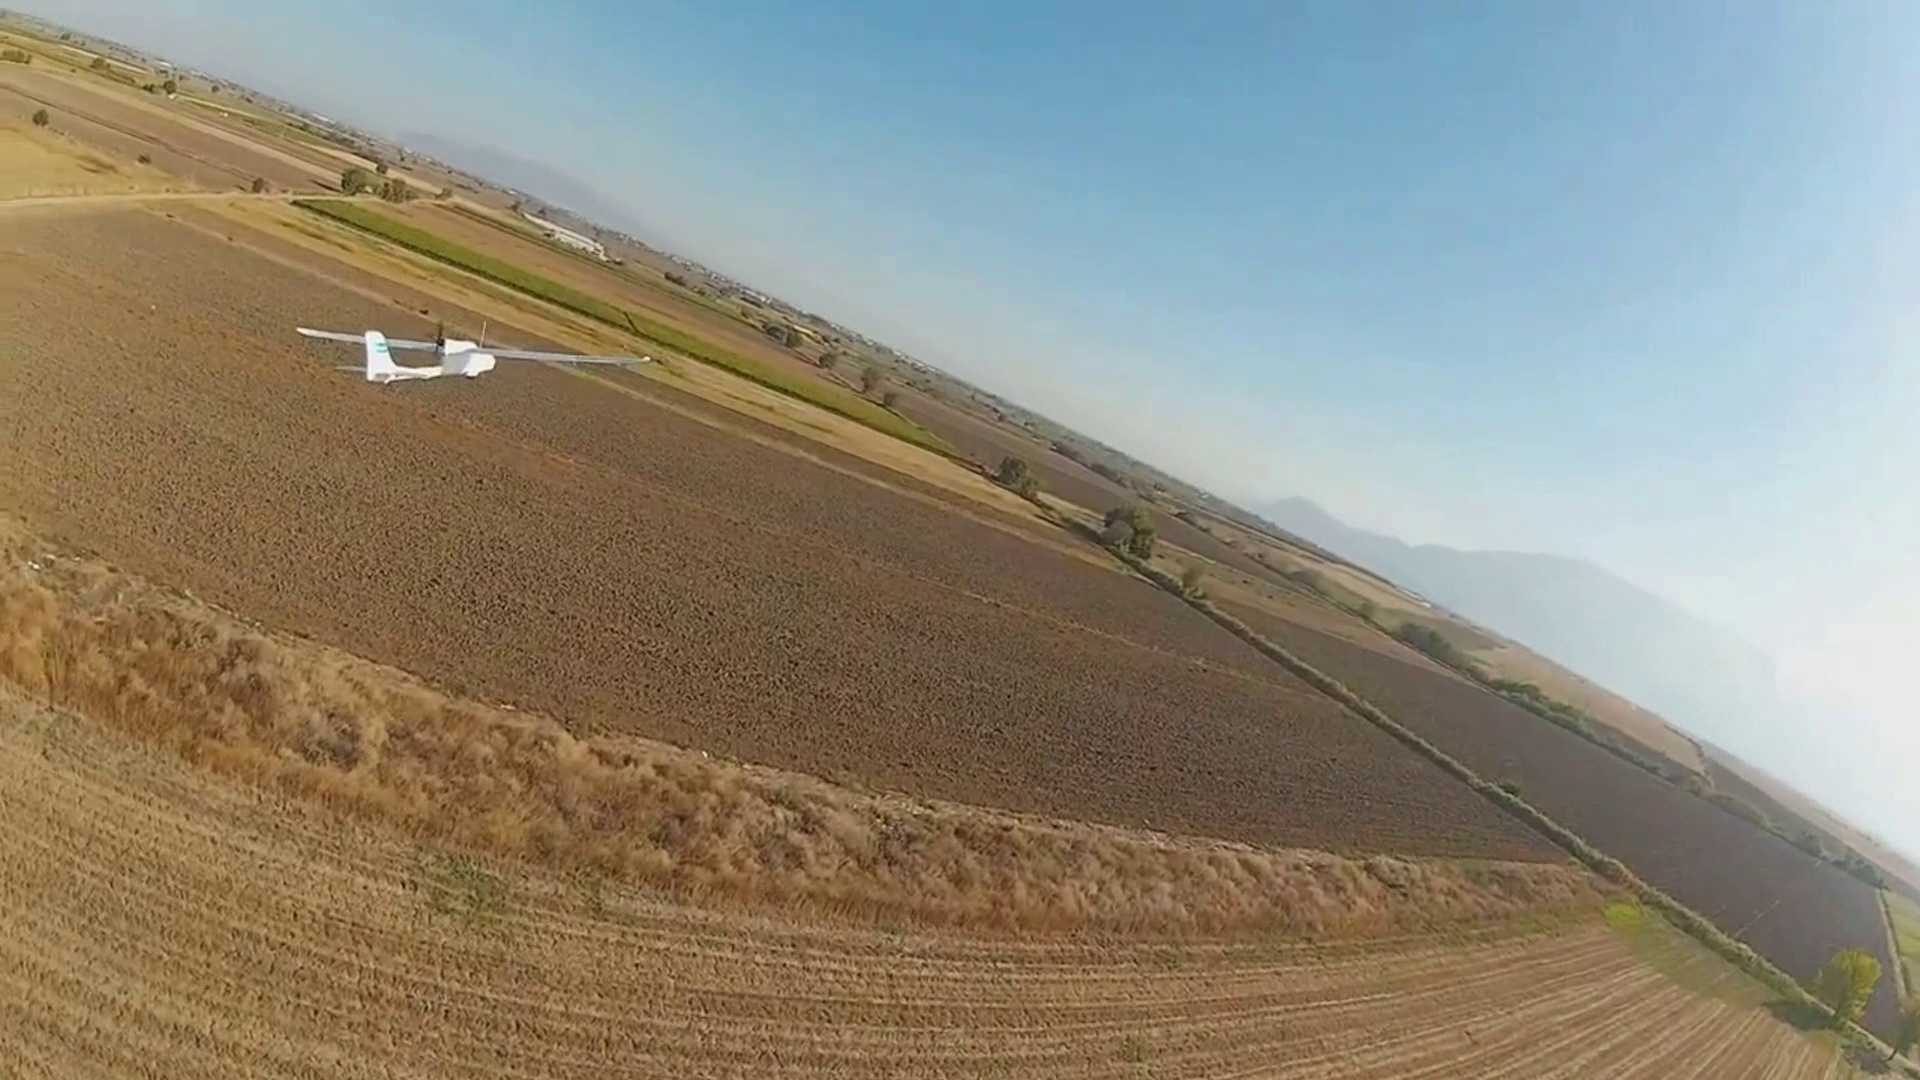airplane: (293, 324, 496, 384)
